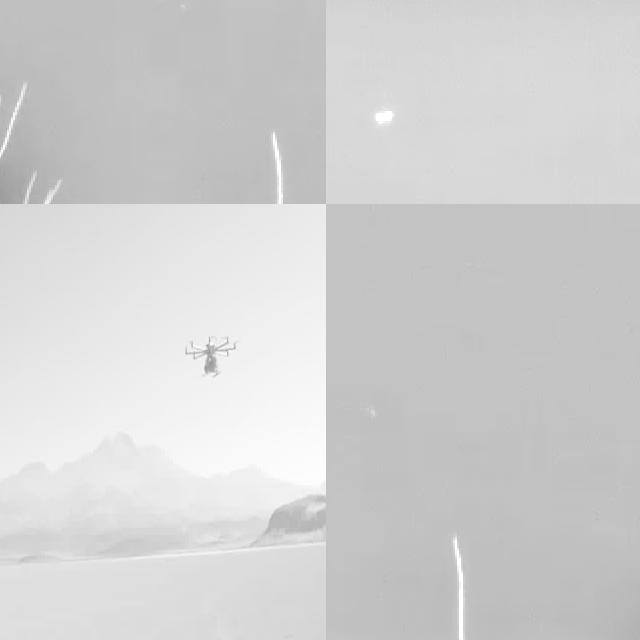0: (365, 402, 387, 429), (175, 0, 199, 22)
1: (368, 106, 404, 136)
drone: (184, 327, 241, 382)
